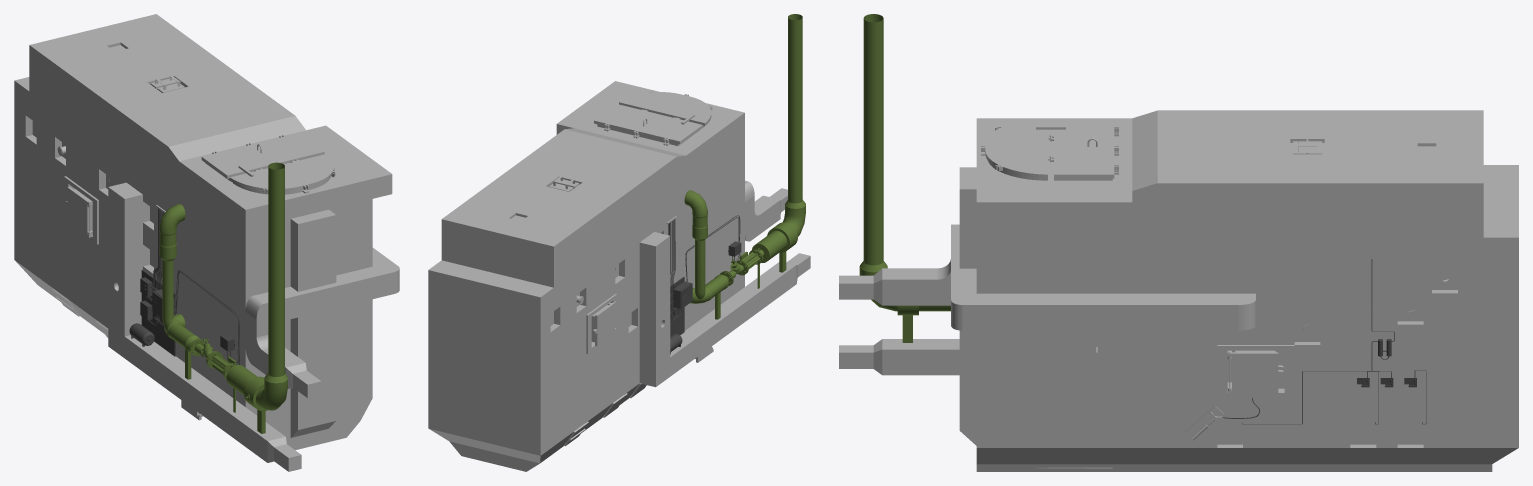
File: Arina.fbx
3 renders of one model, left to right at view 1: azimuth 30°, elevation 25°; view 2: azimuth 150°, elevation 25°; view 3: azimuth 270°, elevation 25°, orthographic. The views are drawn at different scales.
Visible parts, largest first — view 1: Arina-Frame, Arina-Pipe, Oxygen-Analyzer-Frame, Arina-Frame-MainHatch-2, Arina-Frame-MainHatch-1, Arina-Frame-Door-1; view 2: Arina-Frame, Arina-Pipe, Arina-Frame-MainHatch-2, Oxygen-Analyzer-Frame, Arina-Frame-MainHatch-1, Arina-Frame-Door-1; view 3: Arina-Frame, Arina-Pipe, Arina-Frame-MainHatch-2, Arina-Frame-MainHatch-1, Arina-Frame-Door-3, PDI-Sensors.
Boxes of the visible parts, left/top/right/bottom form: Arina-Frame: left=14, top=14, right=399, bottom=471; Arina-Pipe: left=159, top=162, right=287, bottom=433; Oxygen-Analyzer-Frame: left=129, top=208, right=239, bottom=364; Arina-Frame-MainHatch-2: left=201, top=133, right=324, bottom=181; Arina-Frame-MainHatch-1: left=230, top=153, right=335, bottom=194; Arina-Frame-Door-1: left=65, top=186, right=91, bottom=237; Arina-Frame: left=428, top=81, right=810, bottom=471; Arina-Pipe: left=684, top=14, right=805, bottom=319; Arina-Frame-MainHatch-2: left=594, top=104, right=702, bottom=145; Oxygen-Analyzer-Frame: left=668, top=215, right=741, bottom=353; Arina-Frame-MainHatch-1: left=619, top=91, right=712, bottom=127; Arina-Frame-Door-1: left=593, top=302, right=616, bottom=346; Arina-Frame: left=839, top=110, right=1518, bottom=471; Arina-Pipe: left=859, top=14, right=950, bottom=342; Arina-Frame-MainHatch-2: left=1052, top=119, right=1118, bottom=180; Arina-Frame-MainHatch-1: left=981, top=119, right=1049, bottom=180; Arina-Frame-Door-3: left=1227, top=352, right=1283, bottom=394; PDI-Sensors: left=1242, top=259, right=1426, bottom=424.
Bounding box in the file's own units: 277 × 499 × 791.
